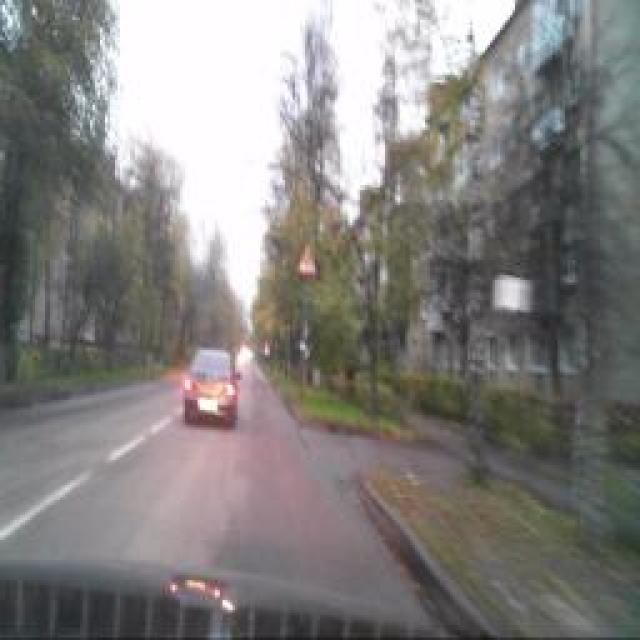sign: (296, 243, 316, 275)
